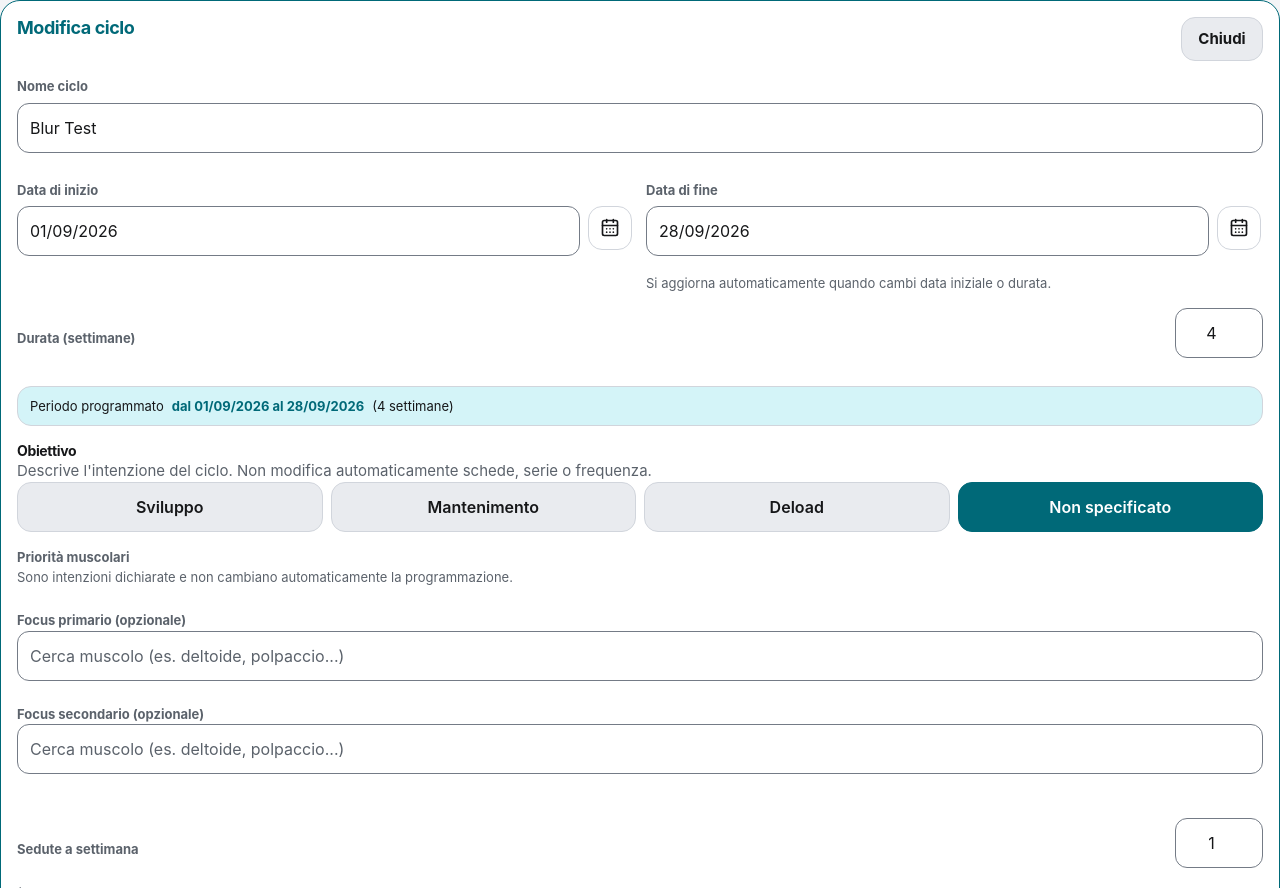
Test: Adversarial Stress Test: Milestone 2 Two-Way Binding & Timeline Edge Cases › CycleEditor Component Stress & UI Robustness › handles typing invalid Italian date text in endDate input and resets gracefully on blur
Note: Type garbage
Replace the text in the field labelled "Data di fine" with "not-a-date" at (928, 231), box [646,206,1209,256]
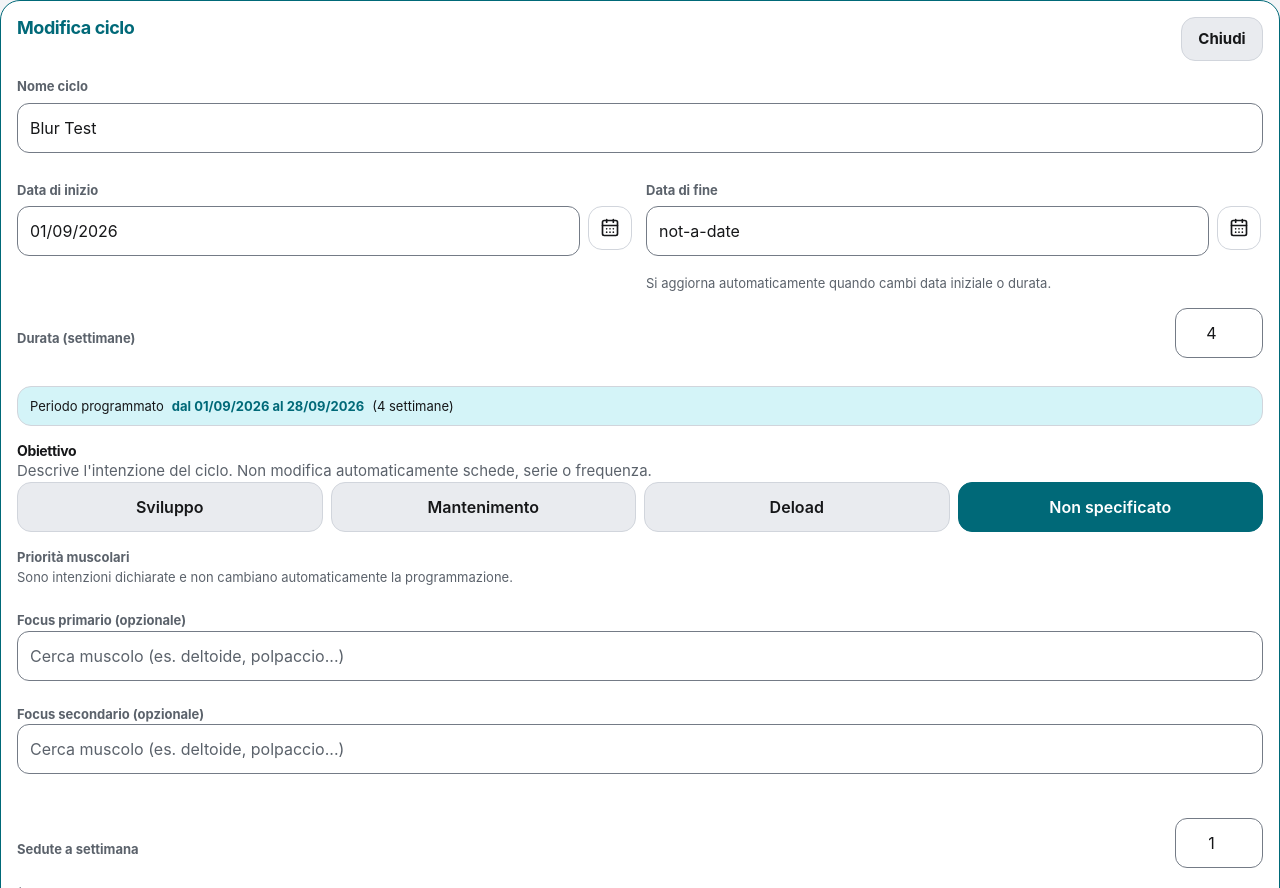
Note: Blur should reset to last valid formatted date
Leave the field labelled "Data di fine", box [646,206,1209,256]
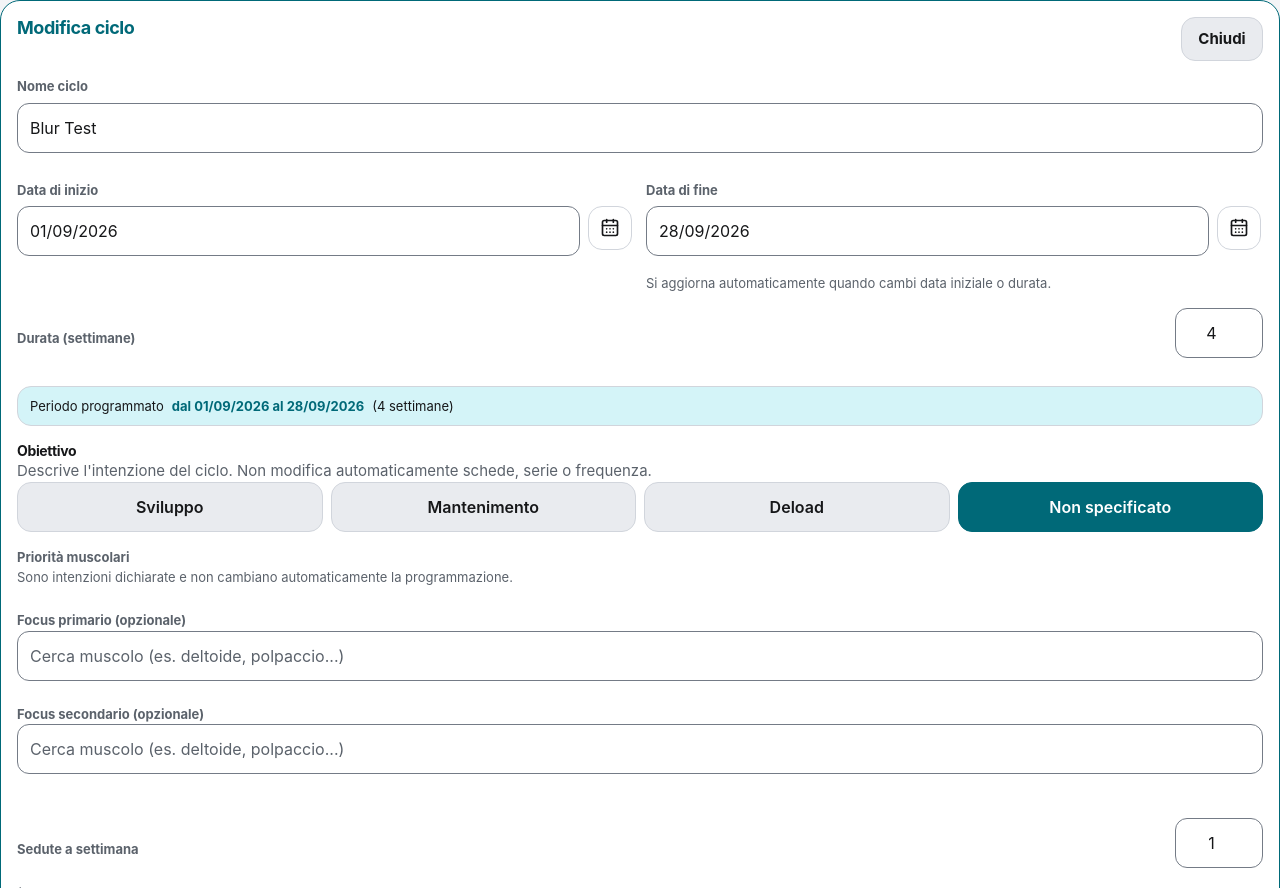
expect the field labelled "Data di fine" holds "28/09/2026": met, box [646,206,1209,256]
